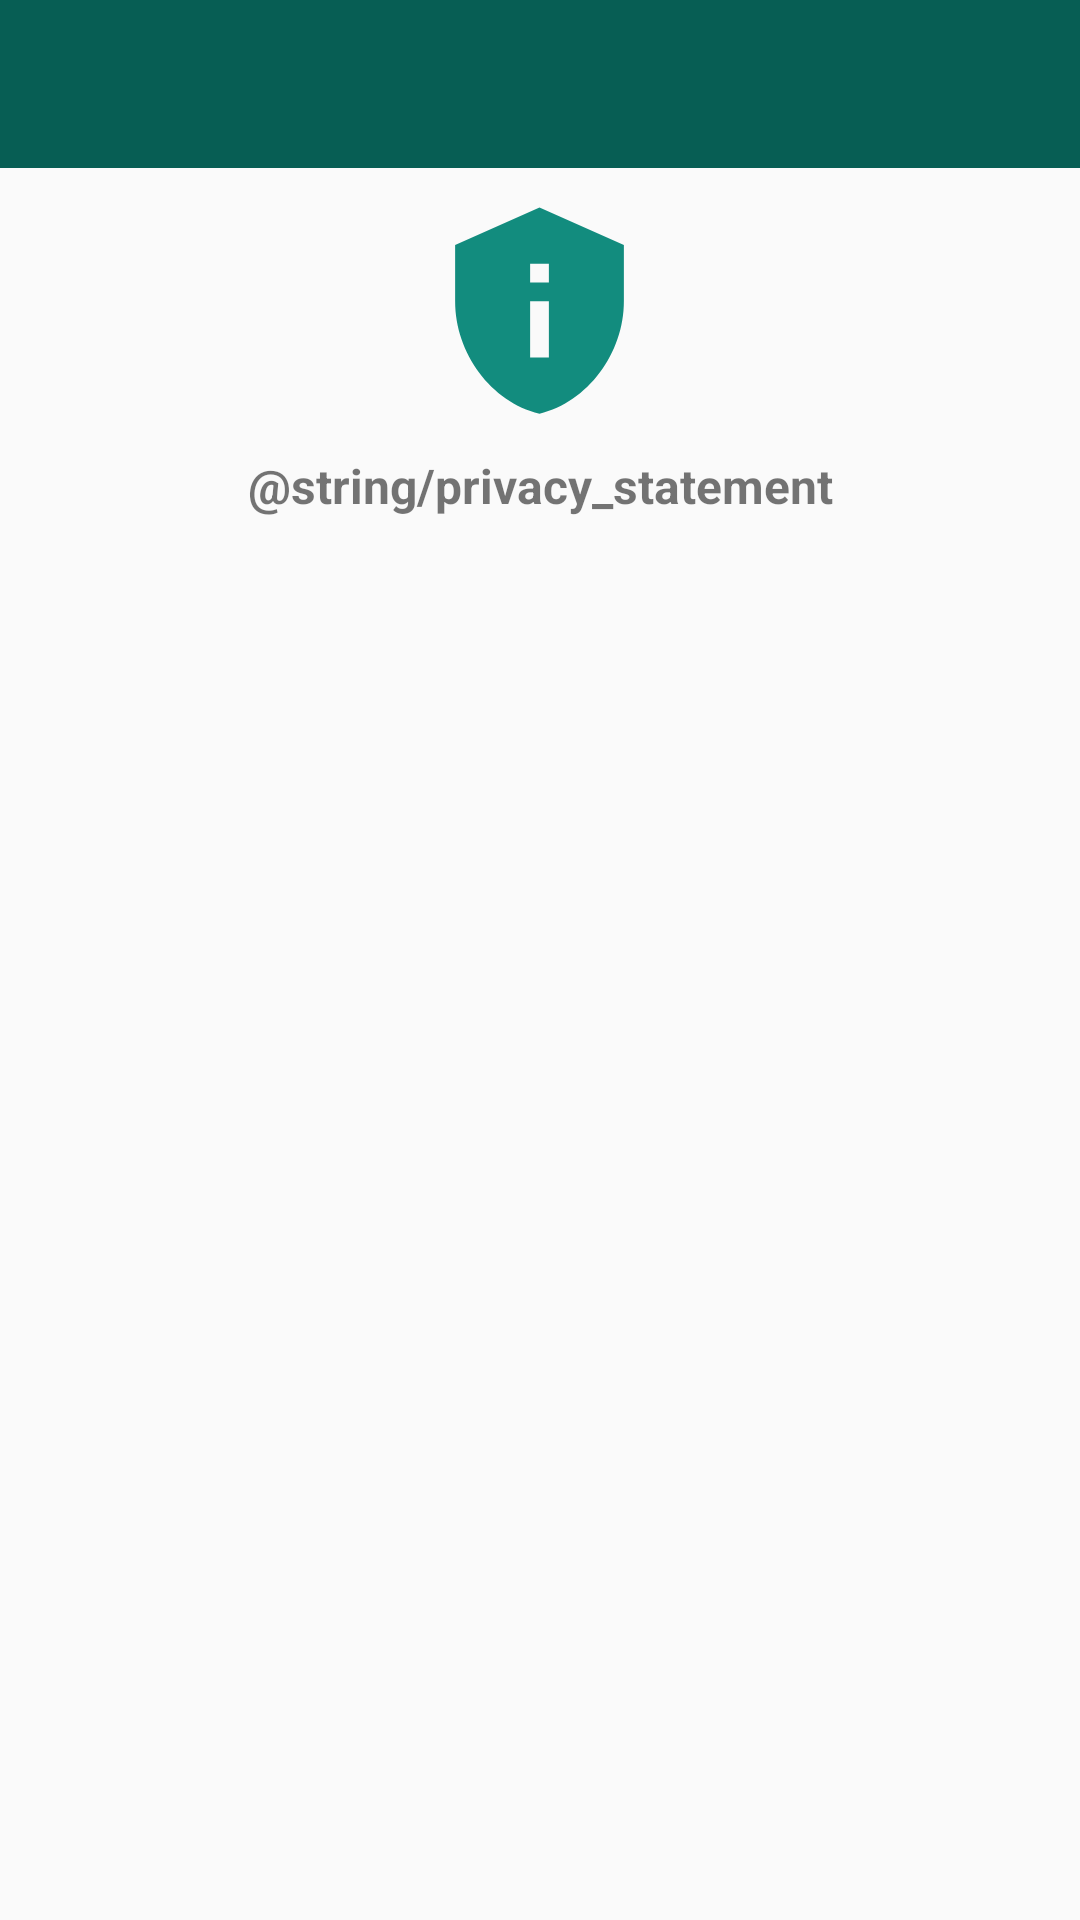

Icon bounding boxes for this 1080 × 1920 phone screenshot, format (x1, y1, x2, y2):
privacy tip: (455, 207, 624, 414)
